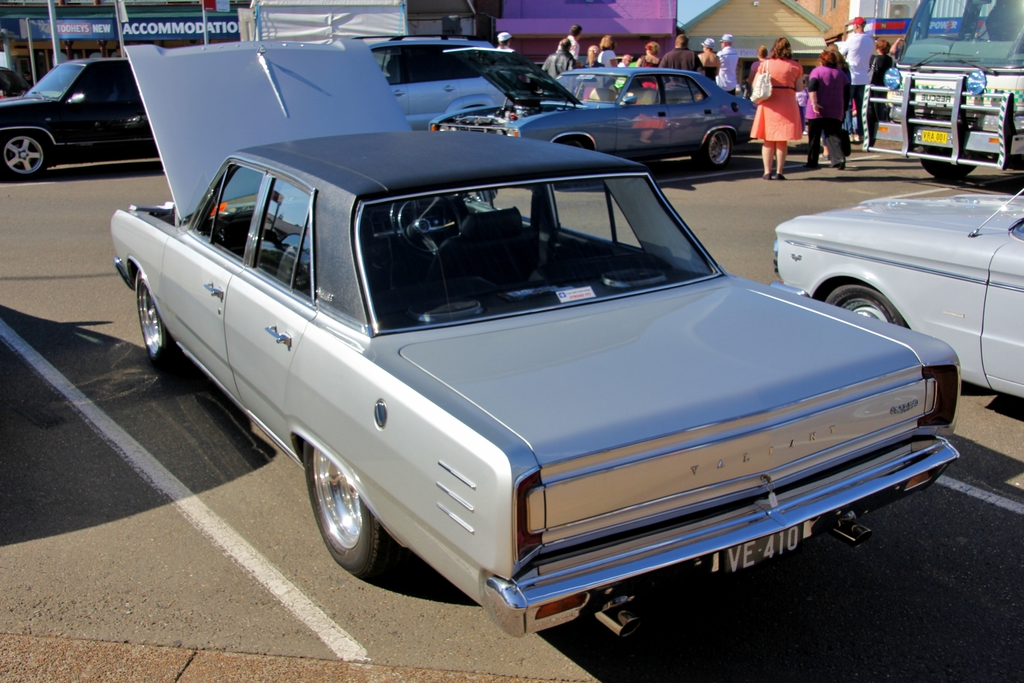Car: (110, 31, 965, 638), (776, 183, 1023, 408), (431, 46, 762, 172), (0, 55, 152, 187)
